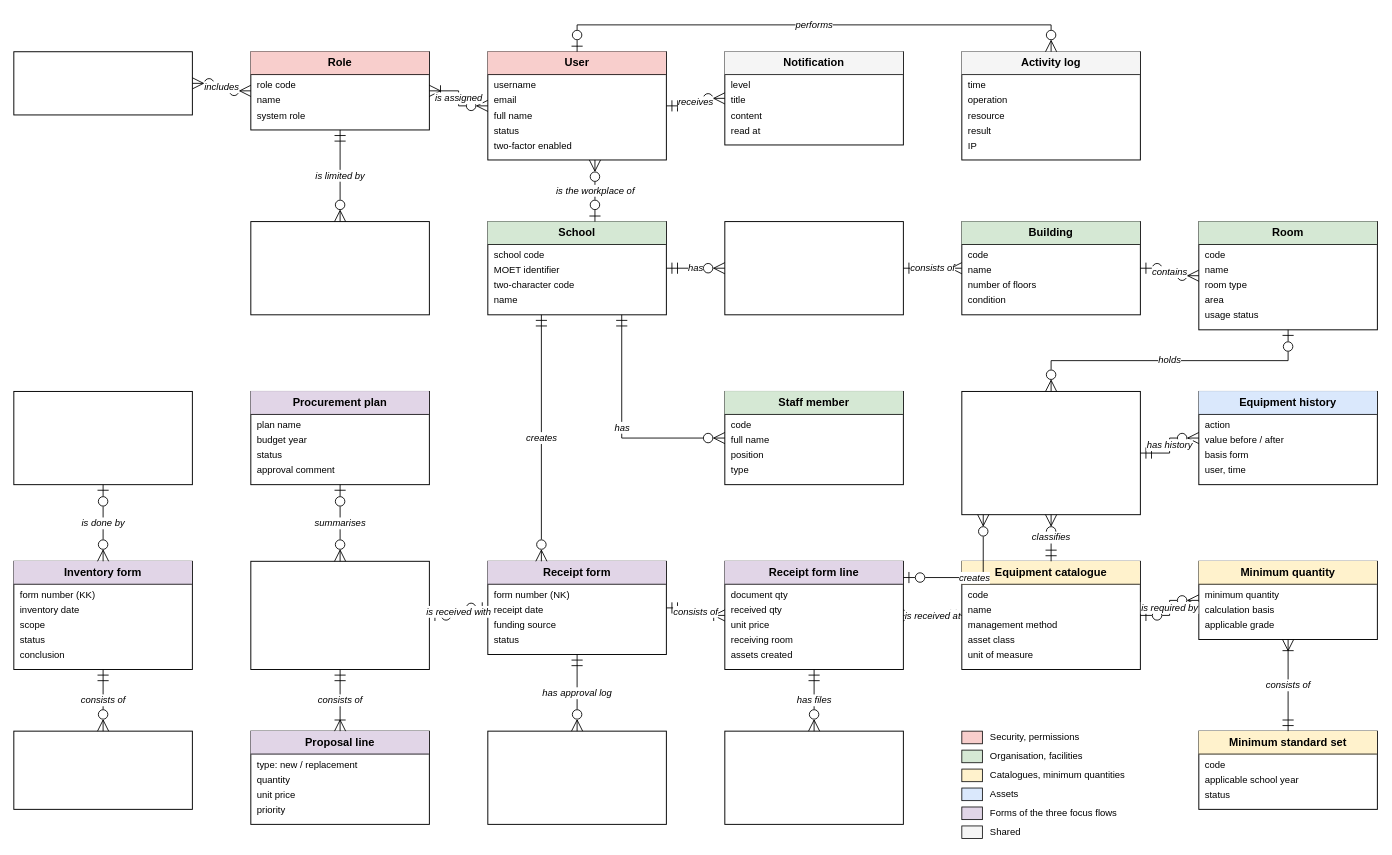
Some shapes in this 1392 by 855 pixel diagram are drawn without their labels. Here are the shapes that lost their labels. From the top down, the centre of each, then its label:
At (x=102, y=83): "Permission permission code (resource:action) name".
At (x=339, y=268): "Data scope policy resource action row filter condition on / off".
At (x=813, y=268): "Campus code name main campus address".
At (x=102, y=438): "Inventory round round name data cut-off date submission deadline closed".
At (x=1050, y=453): "Equipment (asset) asset code name quantity original cost condition status".
At (x=339, y=615): "Procurement proposal form number (MS) proposal date budget year necessity status".
At (x=102, y=769): "Inventory line room, condition in register found actual room, condition".
At (x=576, y=777): "Approval log action status before / after note user, time".
At (x=813, y=777): "Attachment file name type size thumbnail".
